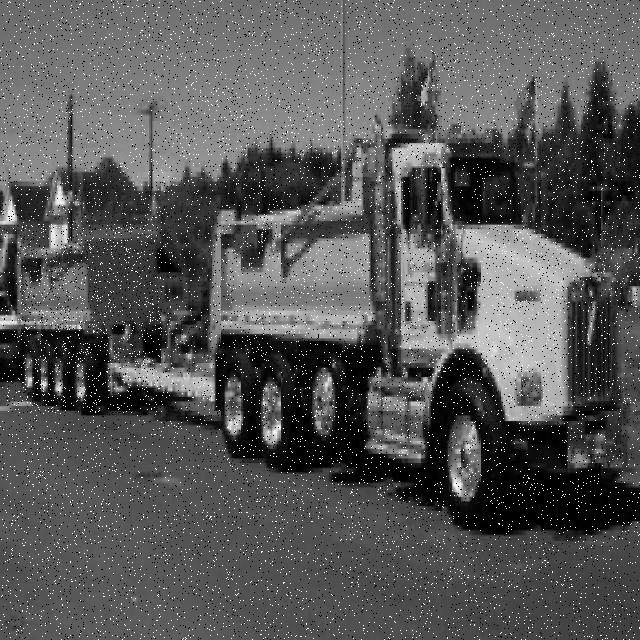Trailer: (18, 226, 162, 414)
Truck- Multi-Axle: (210, 116, 629, 529)
